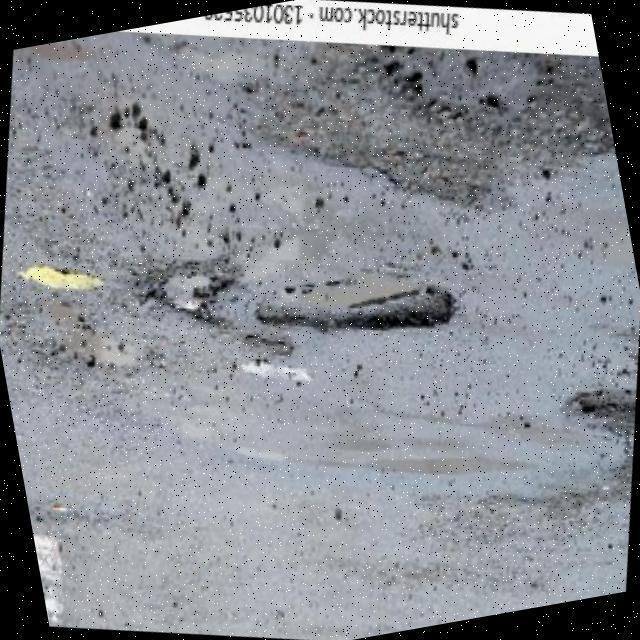Pothole: (248, 266, 458, 335)
